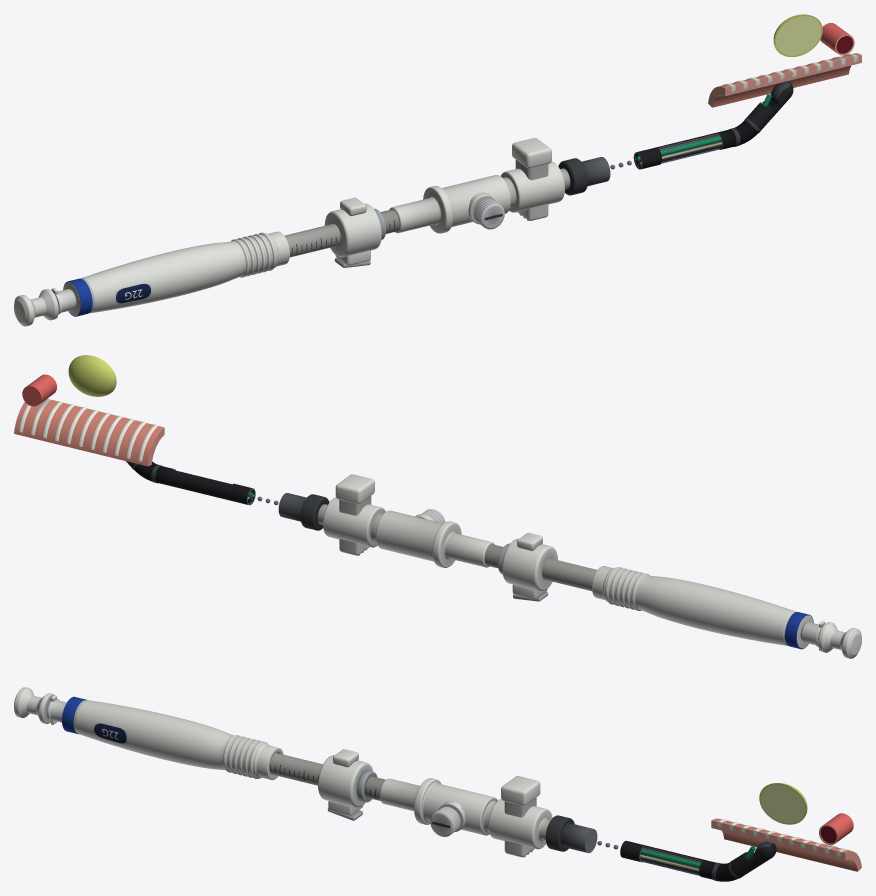
File: ebus-needle-assembly.glb
3 views of the same model, one above another, from view 1: azimuth 30°, elevation 25°; view 2: azimuth 150°, elevation 25°; view 3: azimuth 330°, elevation 25° (orthographic). The views are drawn at different scales.
Parts seen in each view (by area): view 1: needle_handle, sheath_adjuster, mount_connector, airway_wall, extension_stop, depth_scale, target_node, working_channel_cutaway, scope_port, stylet, scope_distal_end, adjacent_vessel (+1 smaller); view 2: needle_handle, airway_wall, sheath_adjuster, mount_connector, extension_stop, working_channel_cutaway, depth_scale, target_node, scope_port, stylet, adjacent_vessel; view 3: needle_handle, sheath_adjuster, mount_connector, airway_wall, extension_stop, depth_scale, target_node, scope_port, working_channel_cutaway, stylet, scope_distal_end, adjacent_vessel (+3 smaller).
Part boxes in pixels (left/top/right/bottom): needle_handle: left=63, top=231, right=289, bottom=316; sheath_adjuster: left=389, top=175, right=516, bottom=233; mount_connector: left=501, top=138, right=570, bottom=220; airway_wall: left=708, top=53, right=861, bottom=107; extension_stop: left=324, top=197, right=381, bottom=267; depth_scale: left=284, top=208, right=399, bottom=257; target_node: left=773, top=14, right=822, bottom=56; working_channel_cutaway: left=633, top=129, right=735, bottom=169; scope_port: left=558, top=157, right=610, bottom=195; stylet: left=14, top=289, right=58, bottom=326; scope_distal_end: left=747, top=82, right=793, bottom=130; adjacent_vessel: left=820, top=23, right=854, bottom=55; needle_handle: left=592, top=566, right=813, bottom=649; airway_wall: left=14, top=398, right=164, bottom=466; sheath_adjuster: left=370, top=510, right=494, bottom=567; mount_connector: left=317, top=474, right=385, bottom=555; extension_stop: left=502, top=532, right=557, bottom=601; working_channel_cutaway: left=155, top=466, right=255, bottom=505; depth_scale: left=484, top=543, right=596, bottom=591; target_node: left=68, top=355, right=116, bottom=396; scope_port: left=278, top=493, right=329, bottom=530; stylet: left=818, top=622, right=861, bottom=658; adjacent_vessel: left=22, top=374, right=56, bottom=406; needle_handle: left=62, top=696, right=283, bottom=780; sheath_adjuster: left=380, top=778, right=497, bottom=835; mount_connector: left=488, top=776, right=552, bottom=857; airway_wall: left=711, top=818, right=861, bottom=871; extension_stop: left=318, top=749, right=373, bottom=820; depth_scale: left=269, top=753, right=385, bottom=802; target_node: left=759, top=783, right=807, bottom=824; scope_port: left=545, top=815, right=597, bottom=853; working_channel_cutaway: left=620, top=840, right=716, bottom=879; stylet: left=14, top=687, right=54, bottom=723; scope_distal_end: left=730, top=843, right=776, bottom=876; adjacent_vessel: left=819, top=813, right=853, bottom=845.
Size of the model in its own units: 0.3456 by 0.0548 by 0.0281.
